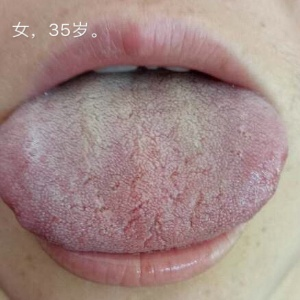st: (2, 114, 295, 251)
